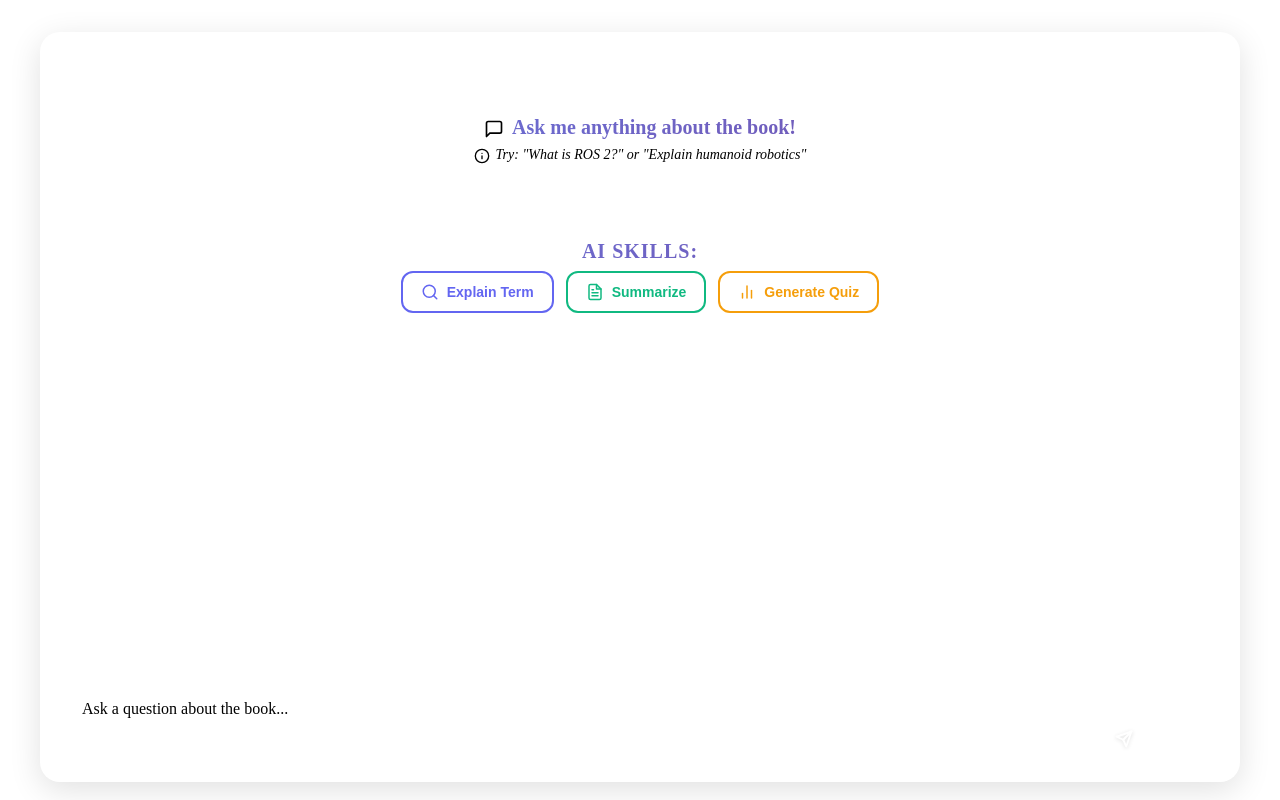
Test case: Chatbot Component › Agent Skills › displays skill output with badge
The width and height of the screenshot is (1280, 800).
Click the button "Explain Term": (477, 292) [401,271,554,313]
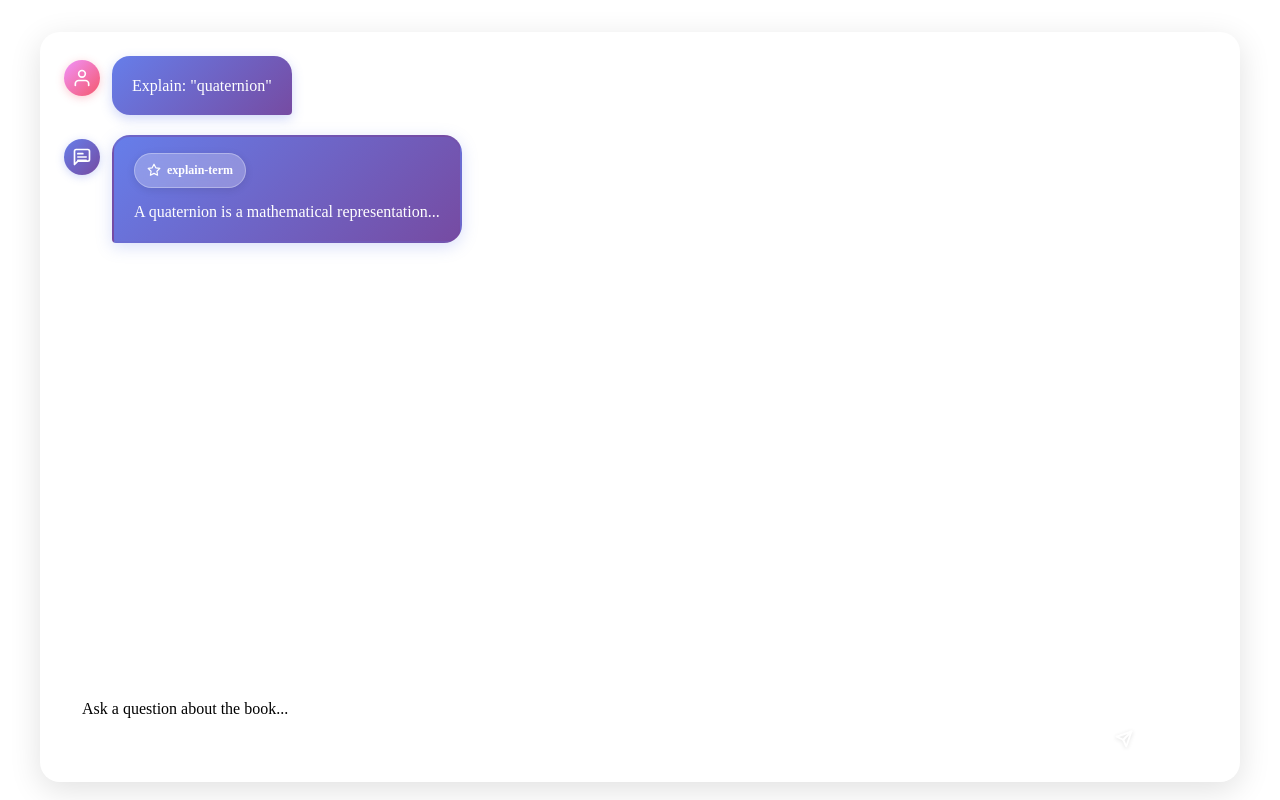
Result: the text "explain-term" is shown at [167,160,233,181]
